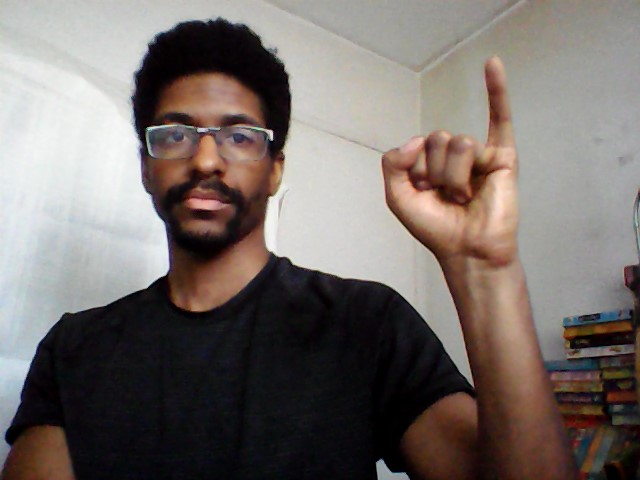i: (374, 50, 529, 261)
